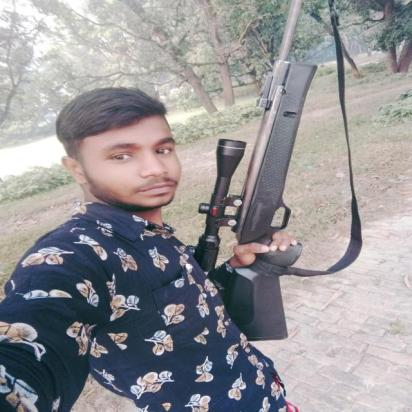Gun: (184, 0, 319, 344)
